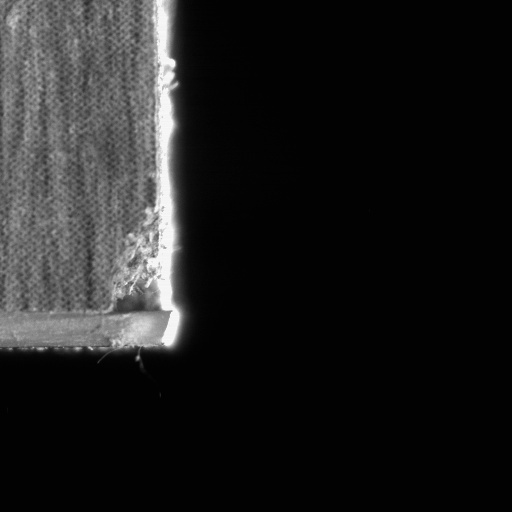bengque: (107, 209, 161, 317)
